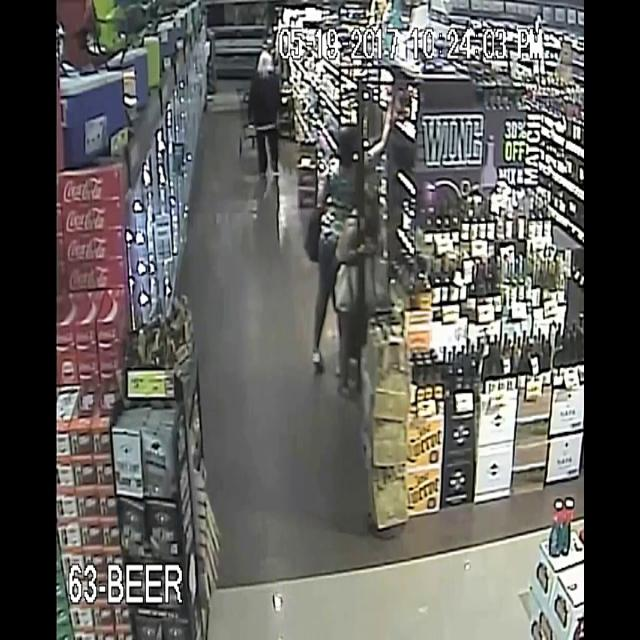normal: (296, 69, 422, 216), (242, 42, 306, 170)
shoplifting: (334, 202, 421, 384)
